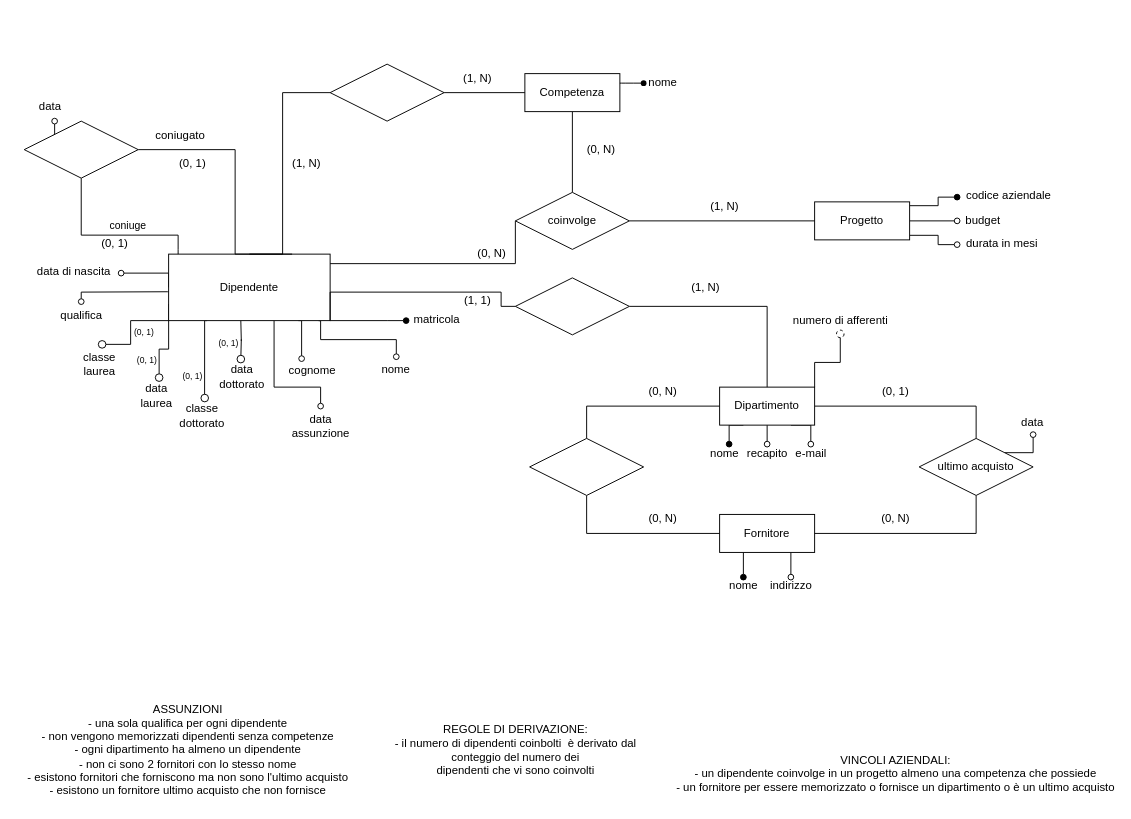
Some shapes in this 1131 by 819 pixel diagram are drawn without their labels. The shapes that lost their labels are listed below. From the top down, each one's box as (x1, y1, x2, y2) in pixels, then its label:
(329, 63, 444, 121): possiede
(23, 120, 138, 178): matrimonio
(514, 277, 629, 335): afferisce
(529, 437, 644, 495): fornisce
